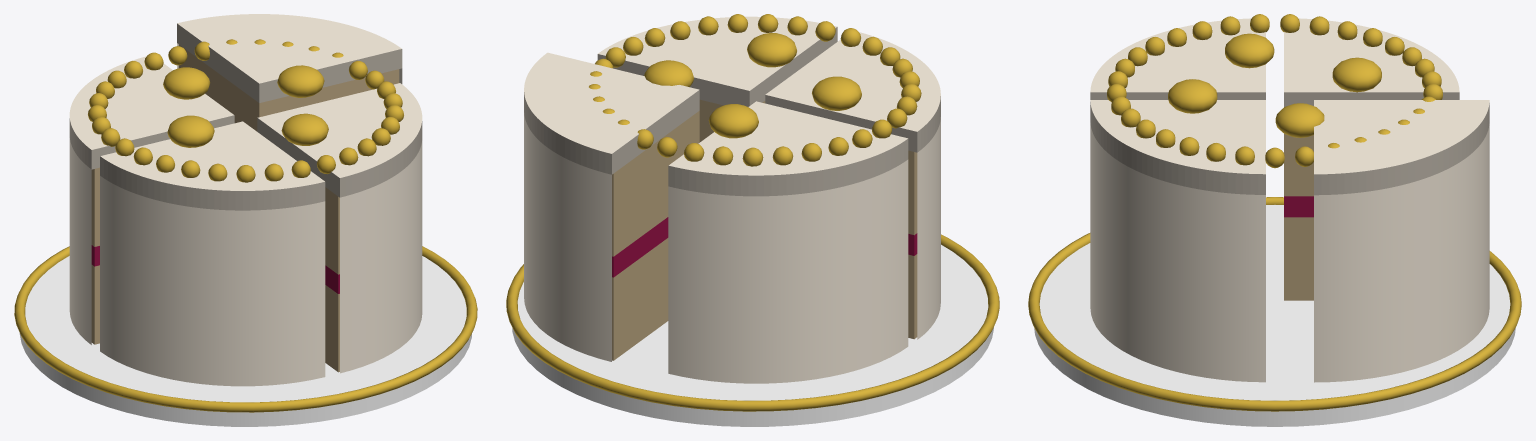
File: torta-15cm-10alto-1p-4porc-vainilla.glb
3 renders of one model, left to right at view 1: azimuth 30°, elevation 25°; view 2: azimuth 150°, elevation 25°; view 3: azimuth 270°, elevation 25°, orthographic. The views are drawn at different scales.
Bounding box in the file's own units: 0.215 × 0.1216 × 0.215.
